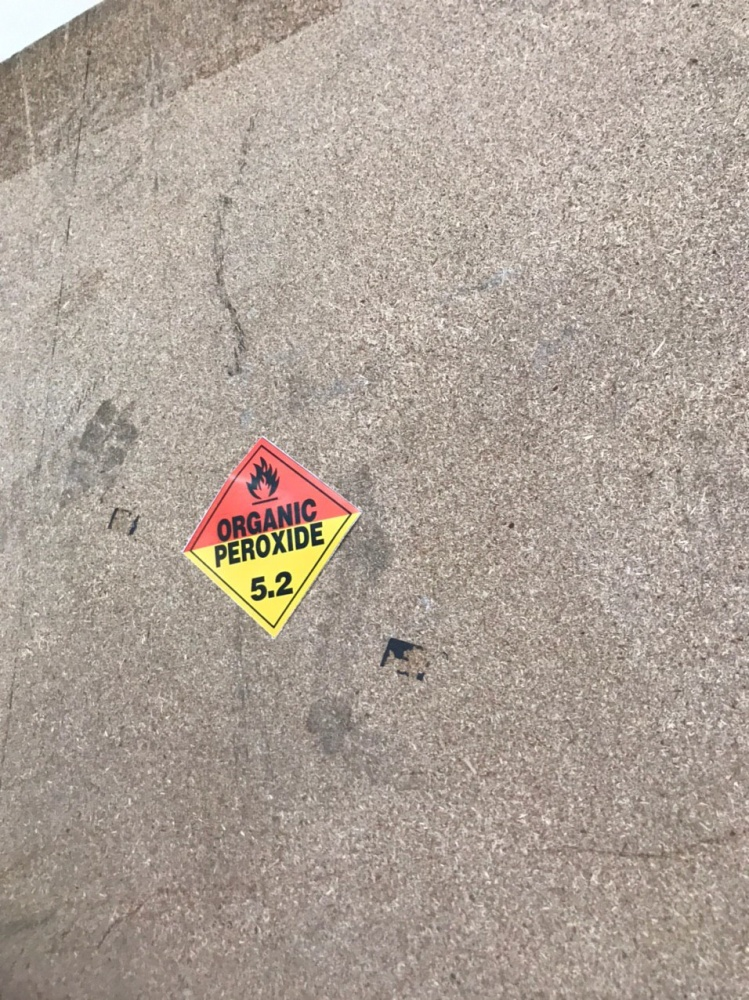organic-peroxide: (164, 438, 358, 632)
